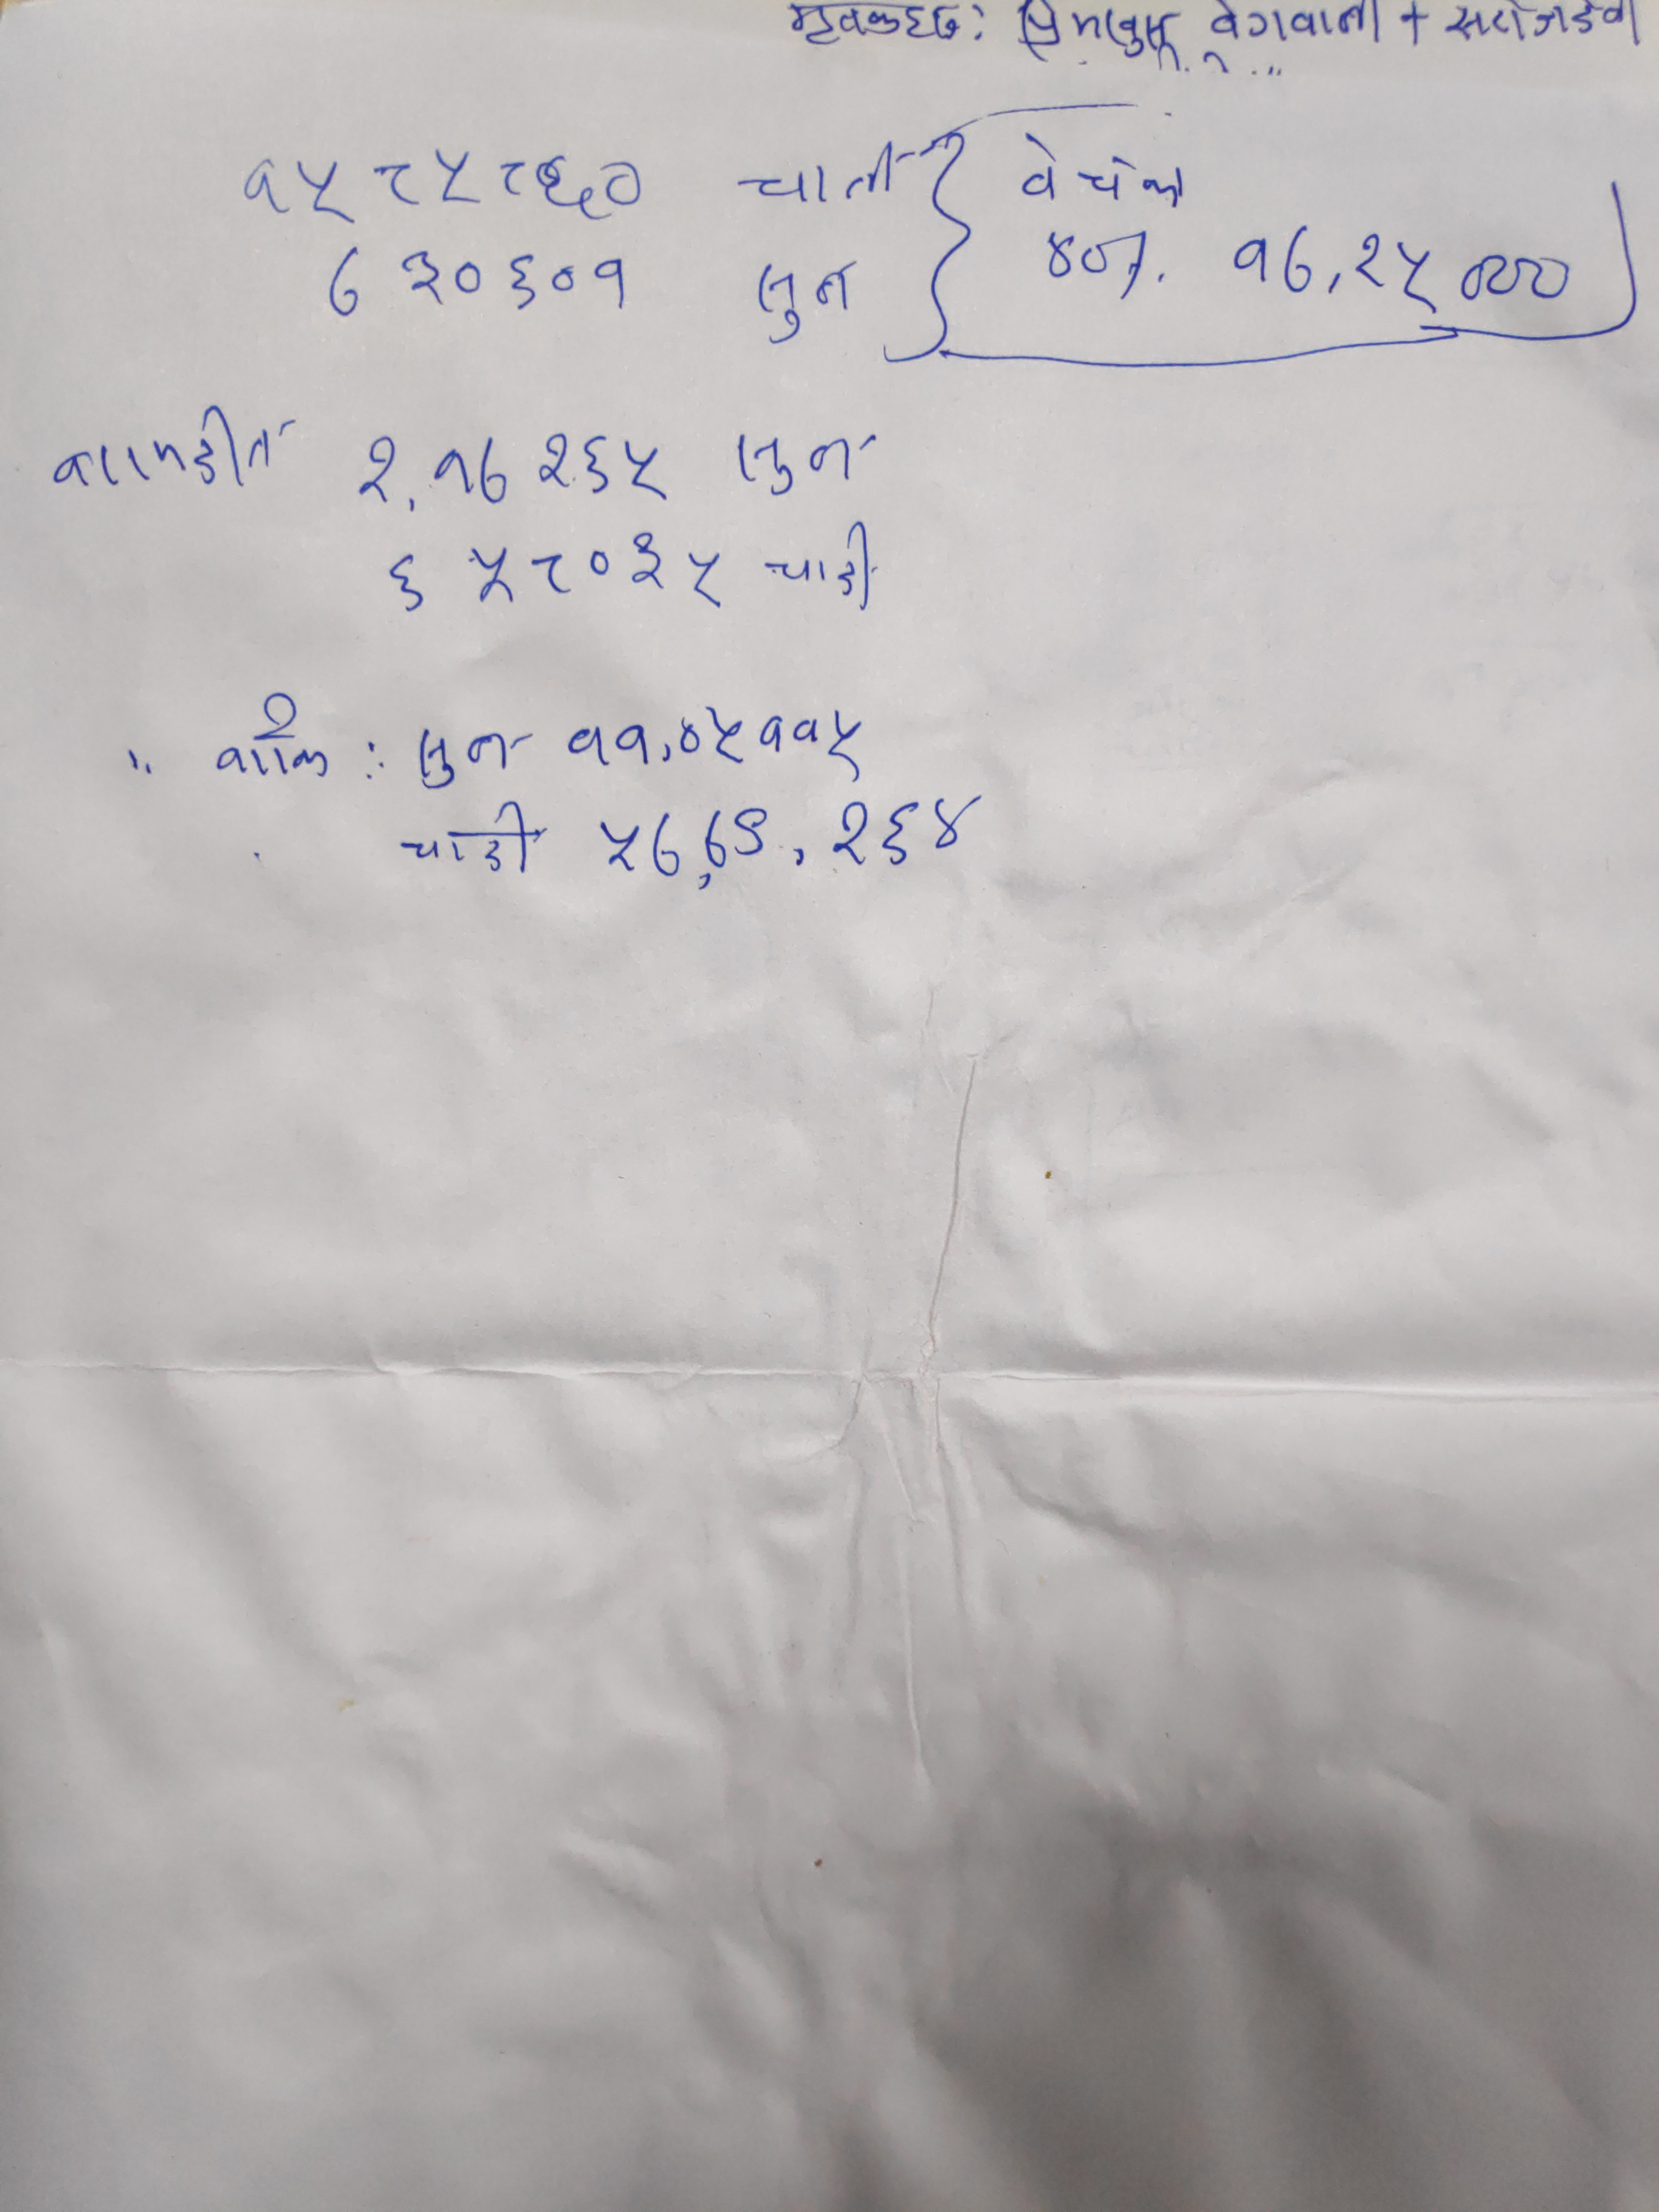text: (589, 786, 979, 895), (1223, 212, 1581, 322), (228, 141, 648, 225), (376, 526, 737, 620), (310, 232, 634, 326), (347, 428, 673, 514), (556, 704, 878, 780), (47, 402, 303, 493), (1014, 129, 1197, 219), (202, 690, 340, 787), (734, 136, 915, 209), (1011, 2, 1190, 68), (396, 798, 542, 878), (755, 251, 859, 345), (774, 3, 971, 52), (406, 721, 525, 792), (1204, 3, 1387, 49)
